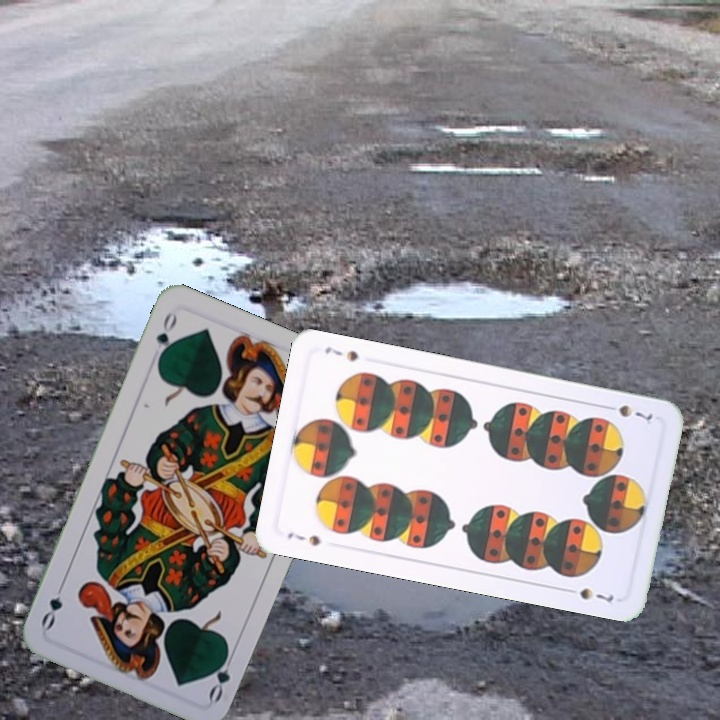GO: (204, 645, 238, 705), (152, 307, 180, 365)
S7: (600, 401, 656, 423), (283, 528, 324, 549)
